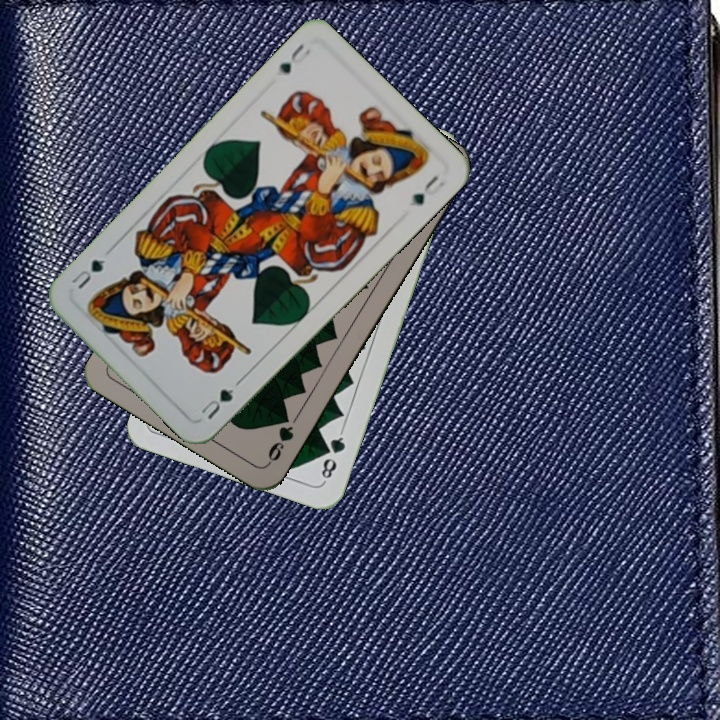G8: (317, 427, 348, 485)
G9: (263, 409, 297, 467)
GU: (197, 383, 237, 423), (274, 39, 313, 77)
